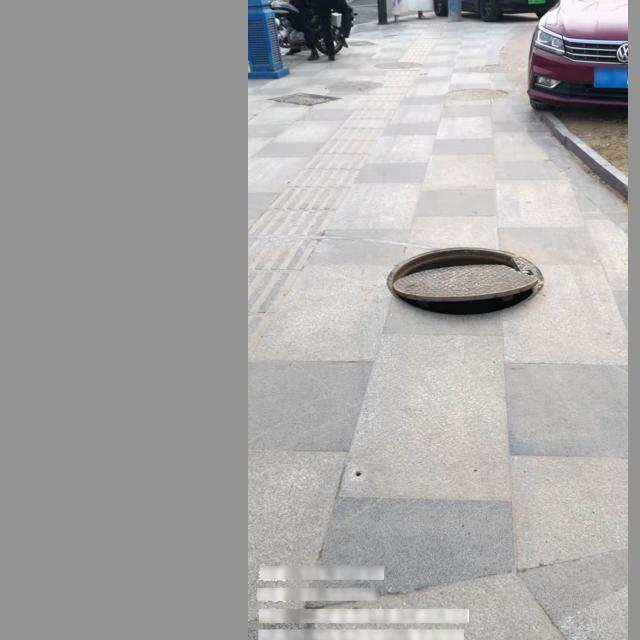uncovered: (387, 247, 545, 320)
